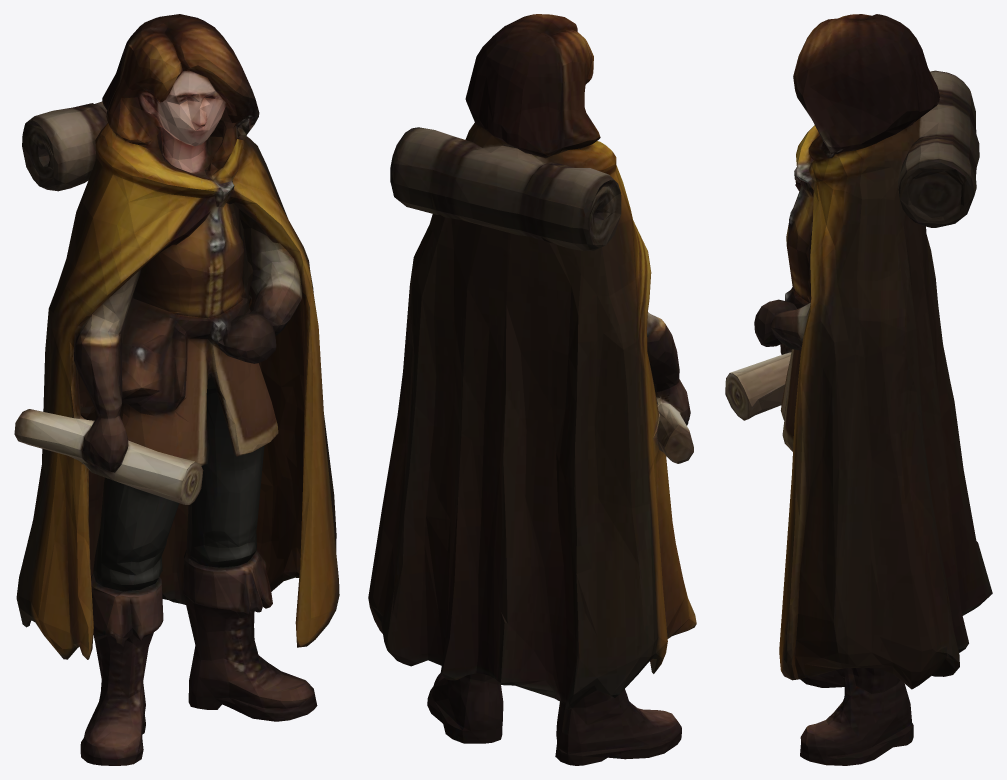
Rendered from scholar.glb.
3 views of the same model, side by side, from view 1: azimuth 30°, elevation 25°; view 2: azimuth 150°, elevation 25°; view 3: azimuth 270°, elevation 25° (orthographic). The views are drawn at different scales.
Visible parts, largest first — view 1: world; view 2: world; view 3: world.
Part boxes in pixels (x1,y1,x2,y2): world: (14, 14, 339, 765); world: (368, 14, 696, 765); world: (725, 14, 992, 765).
Bounding box in the file's own units: 0.4534 × 0.9983 × 0.3482.
1 material, 1 textured.
